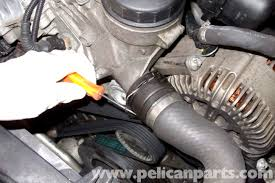radiator_hose: (128, 70, 247, 182)
